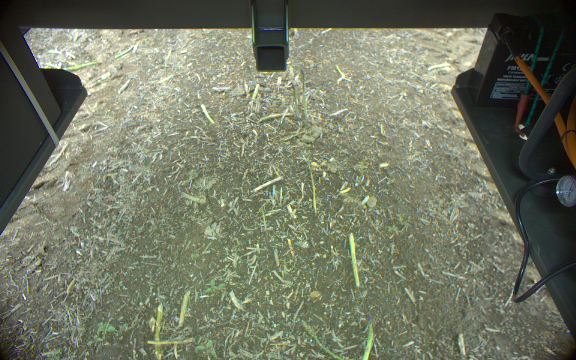aspa: (292, 318, 343, 360), (148, 304, 170, 360), (344, 231, 362, 289), (358, 311, 379, 360), (175, 287, 192, 330), (298, 67, 309, 121), (197, 99, 216, 129), (287, 83, 298, 121)
